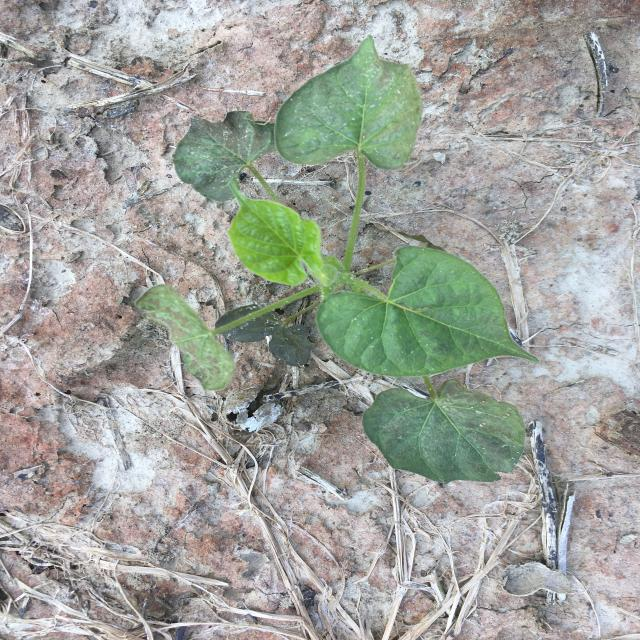MorningGlory: (132, 34, 544, 486)
